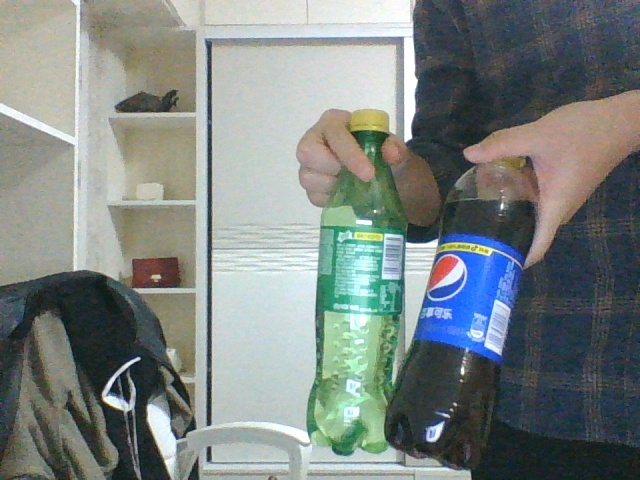Cola: (385, 157, 537, 472)
Sprite: (305, 108, 408, 457)
